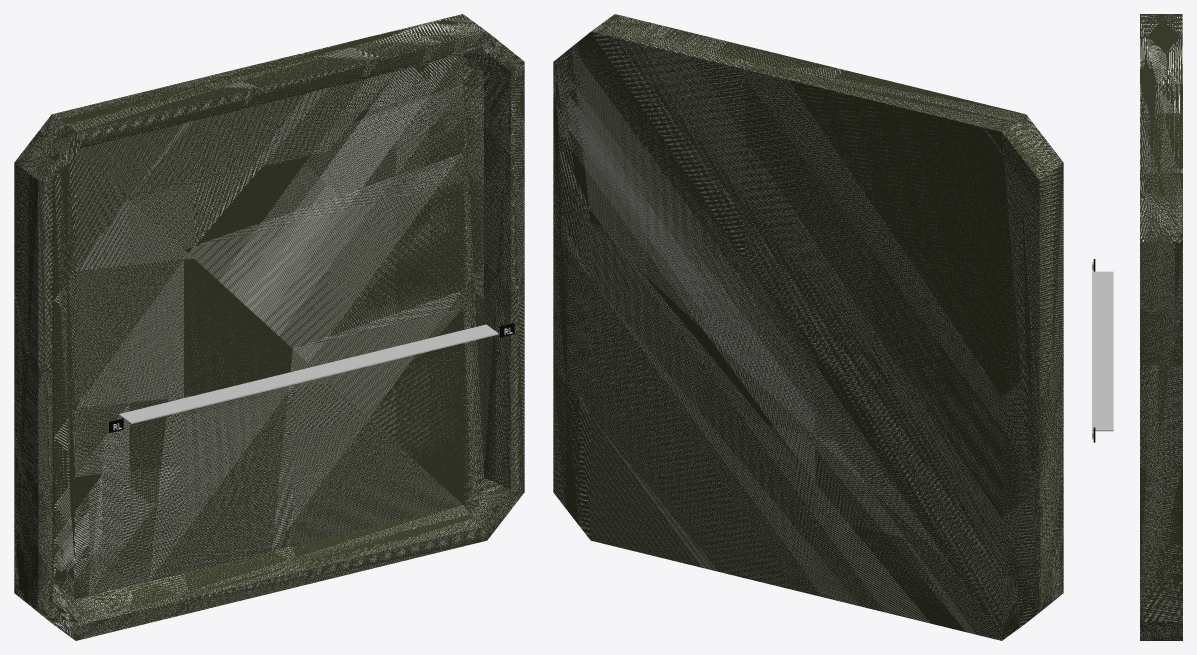
The picture shows the model from 3 angles, left to right: view 1: azimuth 30°, elevation 25°; view 2: azimuth 150°, elevation 25°; view 3: azimuth 270°, elevation 25°; orthographic projection. The views are drawn at different scales.
Parts seen in each view (by area): view 1: Button.001_ID13, Button_ID3, SM_CM_-_RL_path1763-2.097; view 2: Button_ID3; view 3: Button_ID3, SM_CM_-_RL_path1763-2.097.
Boxes of the visible parts, x1=… form: Button.001_ID13: x1=52, y1=48, x2=510, y2=624; Button_ID3: x1=14, y1=14, x2=524, y2=640; SM_CM_-_RL_path1763-2.097: x1=109, y1=323, x2=514, y2=432; Button_ID3: x1=553, y1=14, x2=1063, y2=640; Button_ID3: x1=1140, y1=14, x2=1182, y2=640; SM_CM_-_RL_path1763-2.097: x1=1092, y1=259, x2=1113, y2=442.
Bounding box in the file's own units: 1 × 1 × 0.1832.
